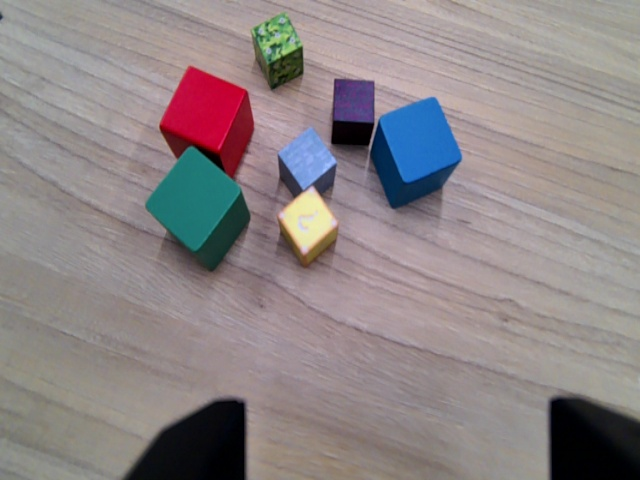brick: (332, 76, 375, 147)
grass: (249, 11, 306, 86)
lucky: (276, 189, 338, 258)
stone: (281, 126, 336, 186)
